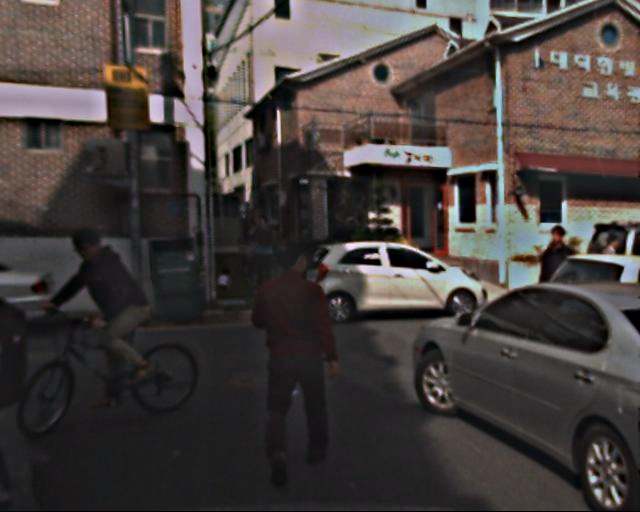person: (245, 241, 344, 481), (70, 220, 152, 398), (530, 226, 590, 362), (252, 213, 284, 290), (238, 217, 261, 266), (218, 266, 229, 293)
